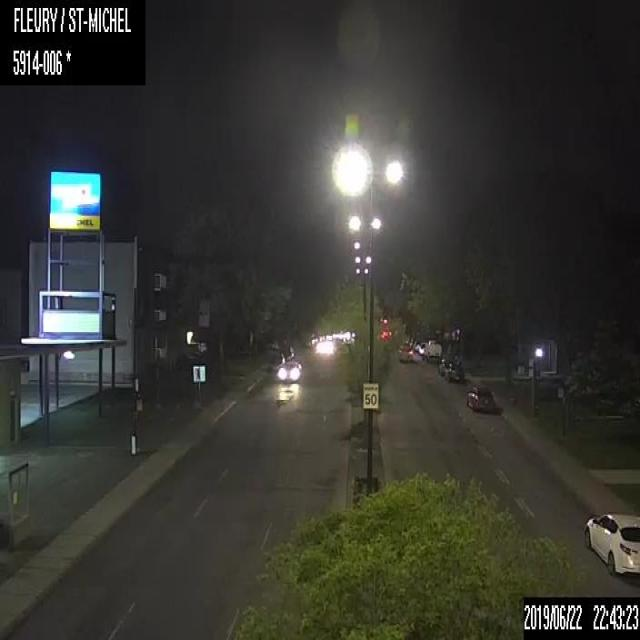vehicle: (583, 509, 639, 576), (466, 382, 496, 410), (274, 359, 301, 384), (445, 358, 463, 382), (422, 342, 442, 362), (437, 356, 445, 376)
